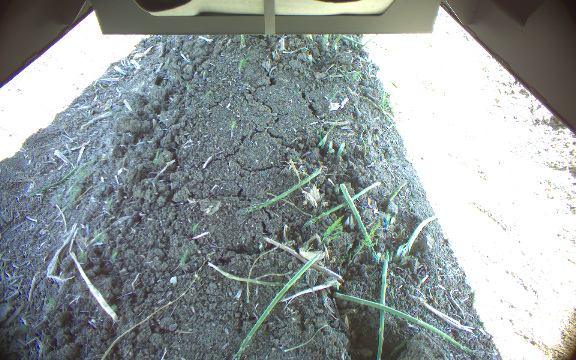aspa: (384, 180, 408, 205)
